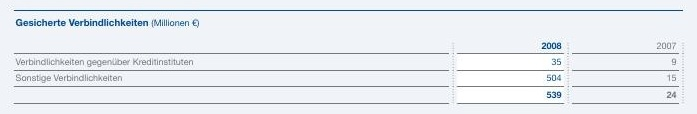table: (0, 0, 697, 114)
